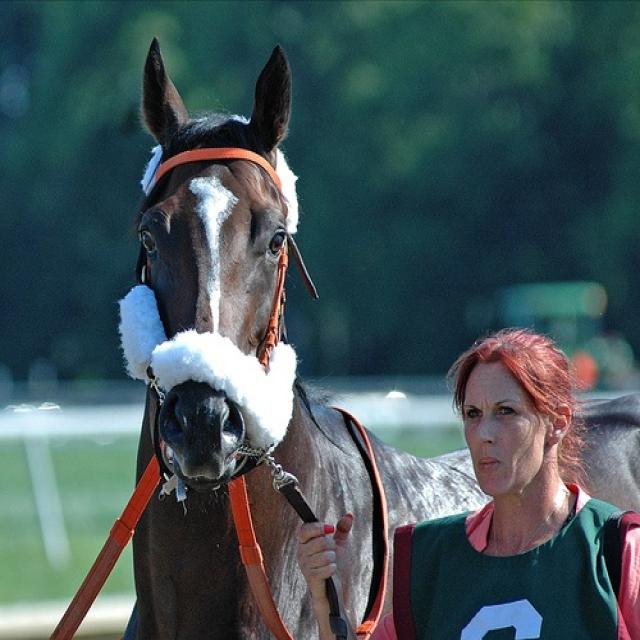horse: (121, 33, 640, 639)
person: (294, 326, 640, 640)
